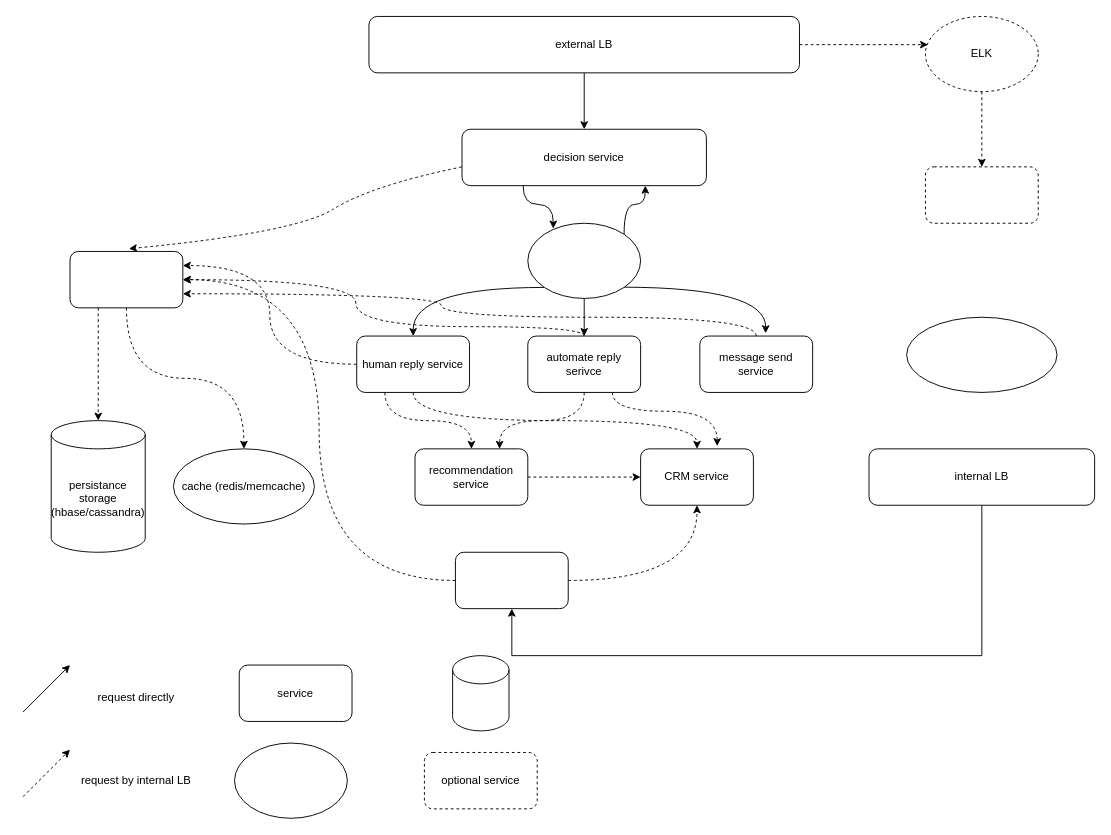
This 1111x835 diagram has some shape labels left out. Here are the shapes that lost their labels. From the top down, the centre of each, then its label:
At point 981,194: "billing service".
At point 126,279: "cache service".
At point 584,260: "mq(sqs/kafka)".
At point 981,354: "metrics/alarm （prometheus/datadog）".
At point 511,580: "management service".
At point 480,693: "database".
At point 290,780: "middleware".
